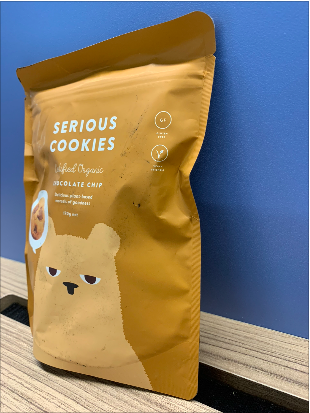Cookies_100-199g: (22, 114, 170, 301)
